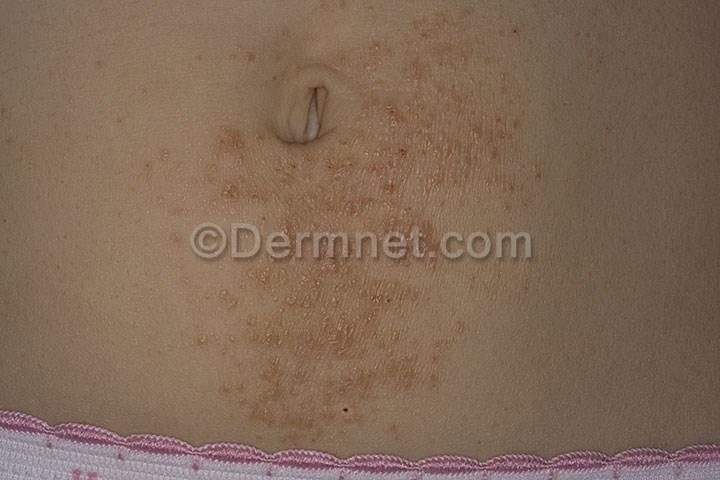Eczema: (224, 333, 425, 437), (374, 83, 514, 175), (237, 263, 395, 338), (300, 155, 409, 236), (189, 120, 286, 203), (399, 7, 480, 72)
